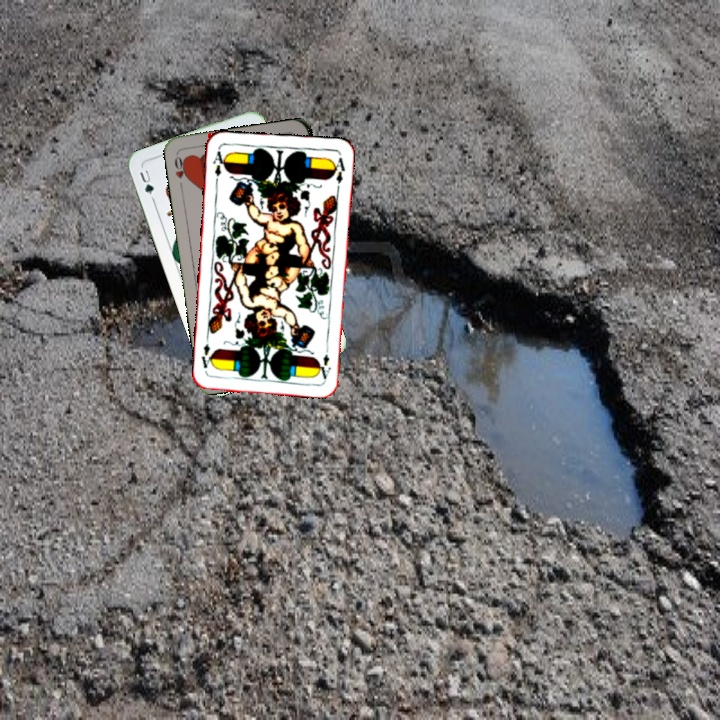EA: (209, 146, 229, 186), (317, 341, 333, 382)
GU: (135, 166, 157, 198)
HO: (170, 151, 191, 191)
